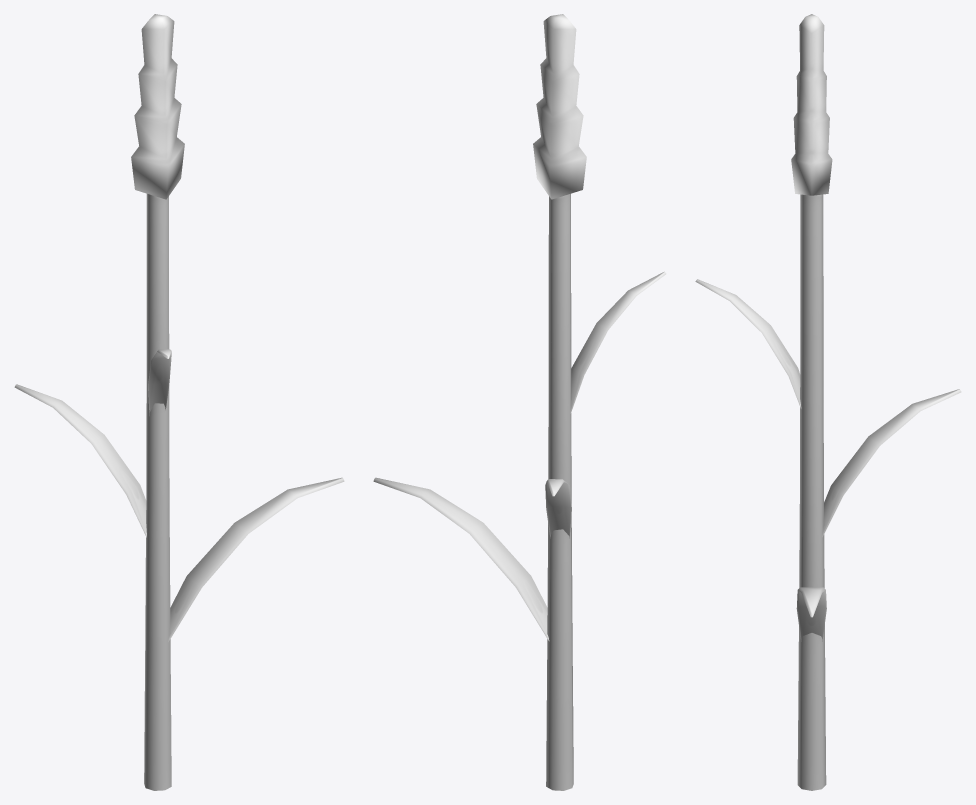
Rendered from wheat1_lod.fbx.
The picture shows the model from 3 angles, left to right: view 1: azimuth 30°, elevation 25°; view 2: azimuth 150°, elevation 25°; view 3: azimuth 270°, elevation 25°; orthographic projection.
Visible parts, largest first — view 1: wheat1_LOD0; view 2: wheat1_LOD0; view 3: wheat1_LOD0.
Part boxes in pixels (box(x1,y1,x2,y2)): wheat1_LOD0: box(14, 14, 344, 790); wheat1_LOD0: box(373, 14, 666, 790); wheat1_LOD0: box(695, 14, 961, 790).
Size of what is drawn, in the model's own units: 36.09 by 104 by 32.68.
1 material, 1 textured.
